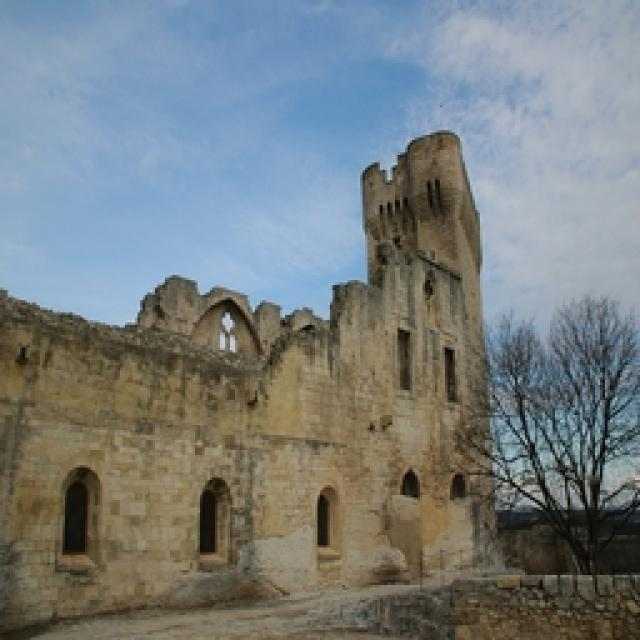Abbey: (82, 152, 508, 591)
